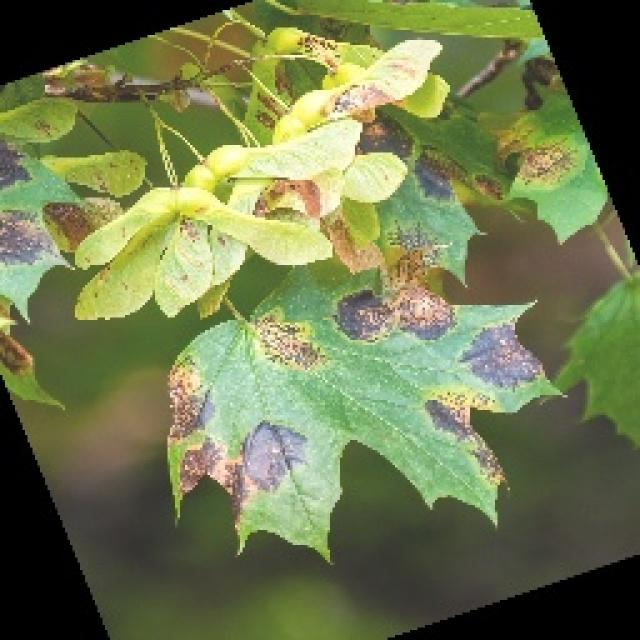Tar_Spot: (163, 232, 565, 562)
